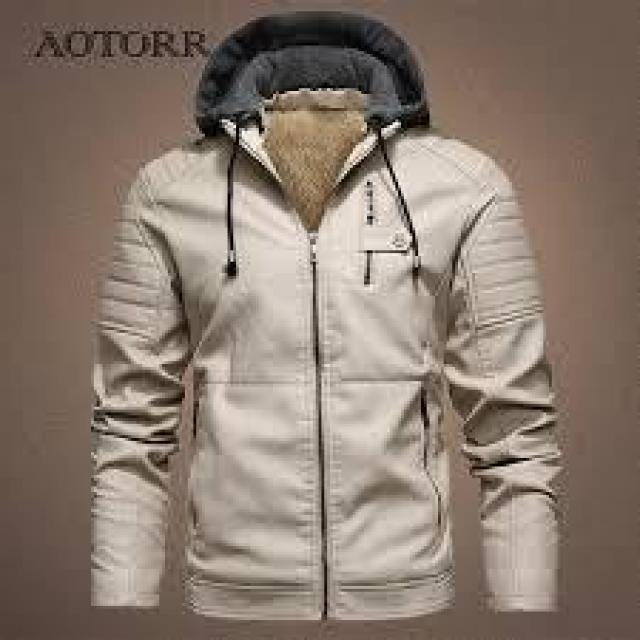jacket: (56, 23, 584, 631)
